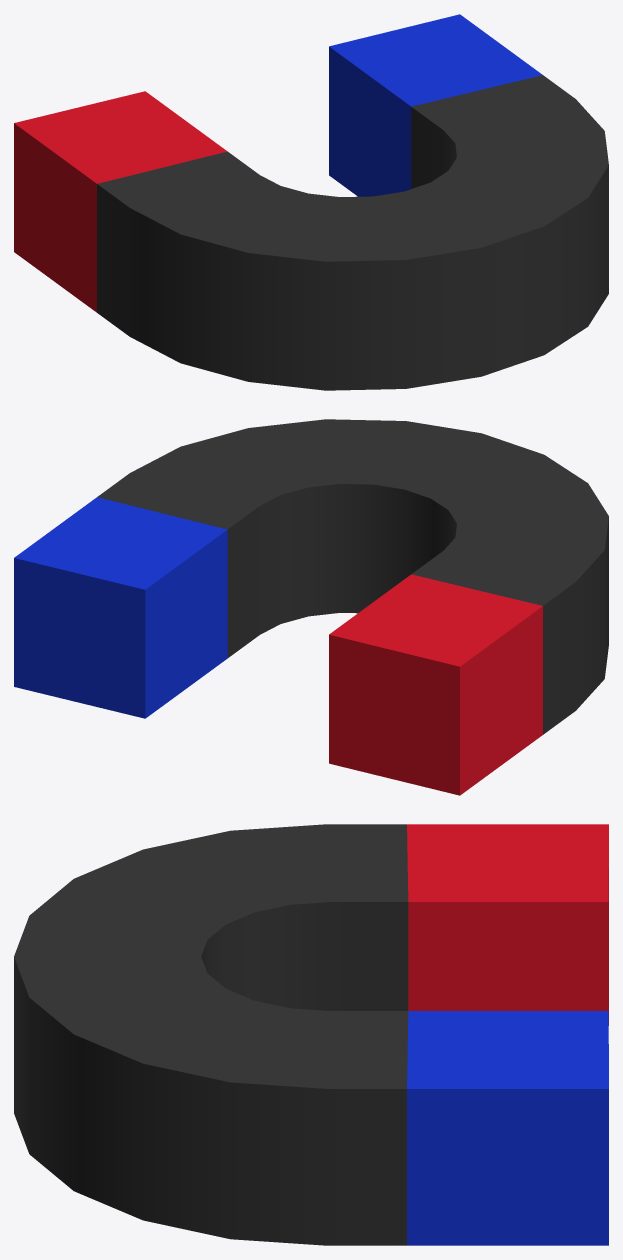
File: magnet.fbx
3 renders of one model, top to bottom at view 1: azimuth 30°, elevation 25°; view 2: azimuth 150°, elevation 25°; view 3: azimuth 270°, elevation 25°, orthographic. The views are drawn at different scales.
Visible parts, largest first — view 1: magnet; view 2: magnet; view 3: magnet.
Part boxes in pixels (<box>): magnet: <box>14,14,608,390</box>; magnet: <box>14,419,608,795</box>; magnet: <box>14,824,608,1245</box>.
Size of the model in its own units: 2 by 0.5525 by 1.9.
